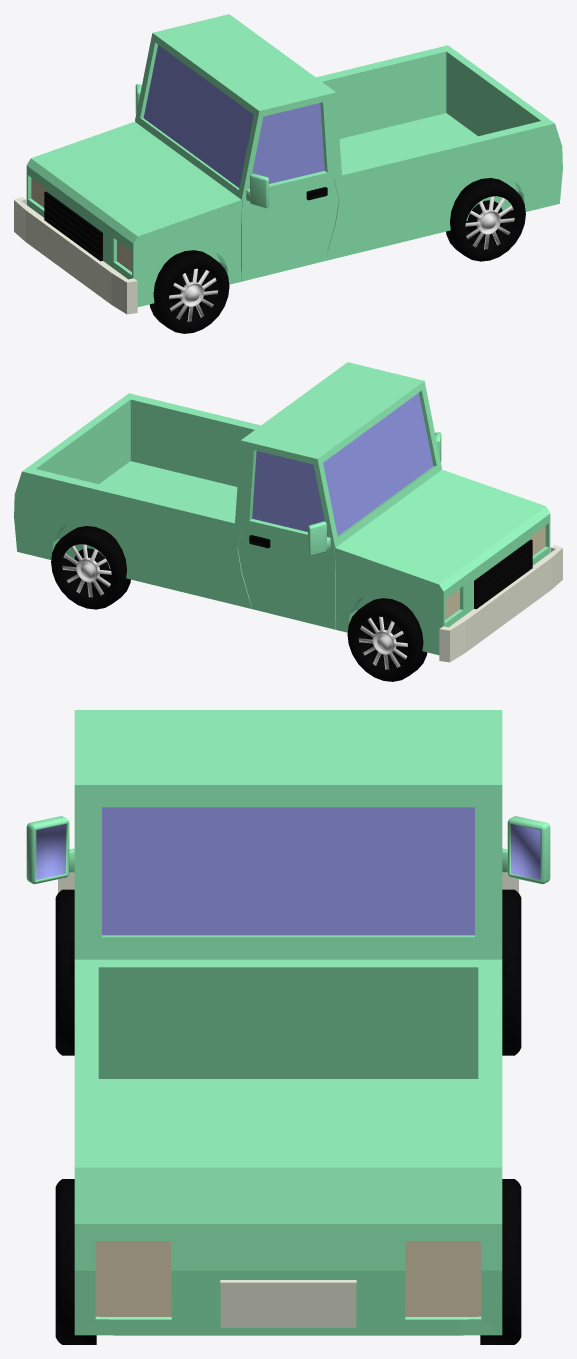
3 renders of one model, top to bottom at view 1: azimuth 30°, elevation 25°; view 2: azimuth 150°, elevation 25°; view 3: azimuth 270°, elevation 25°, orthographic. The views are drawn at different scales.
Parts seen in each view (by area): view 1: Vert.004; view 2: Vert.004; view 3: Vert.004.
Boxes of the visible parts, bbox=[...] form: Vert.004: bbox=[14, 14, 562, 333]; Vert.004: bbox=[14, 362, 562, 681]; Vert.004: bbox=[26, 710, 550, 1344].
Size of the model in its own units: 552 by 241 by 283.
